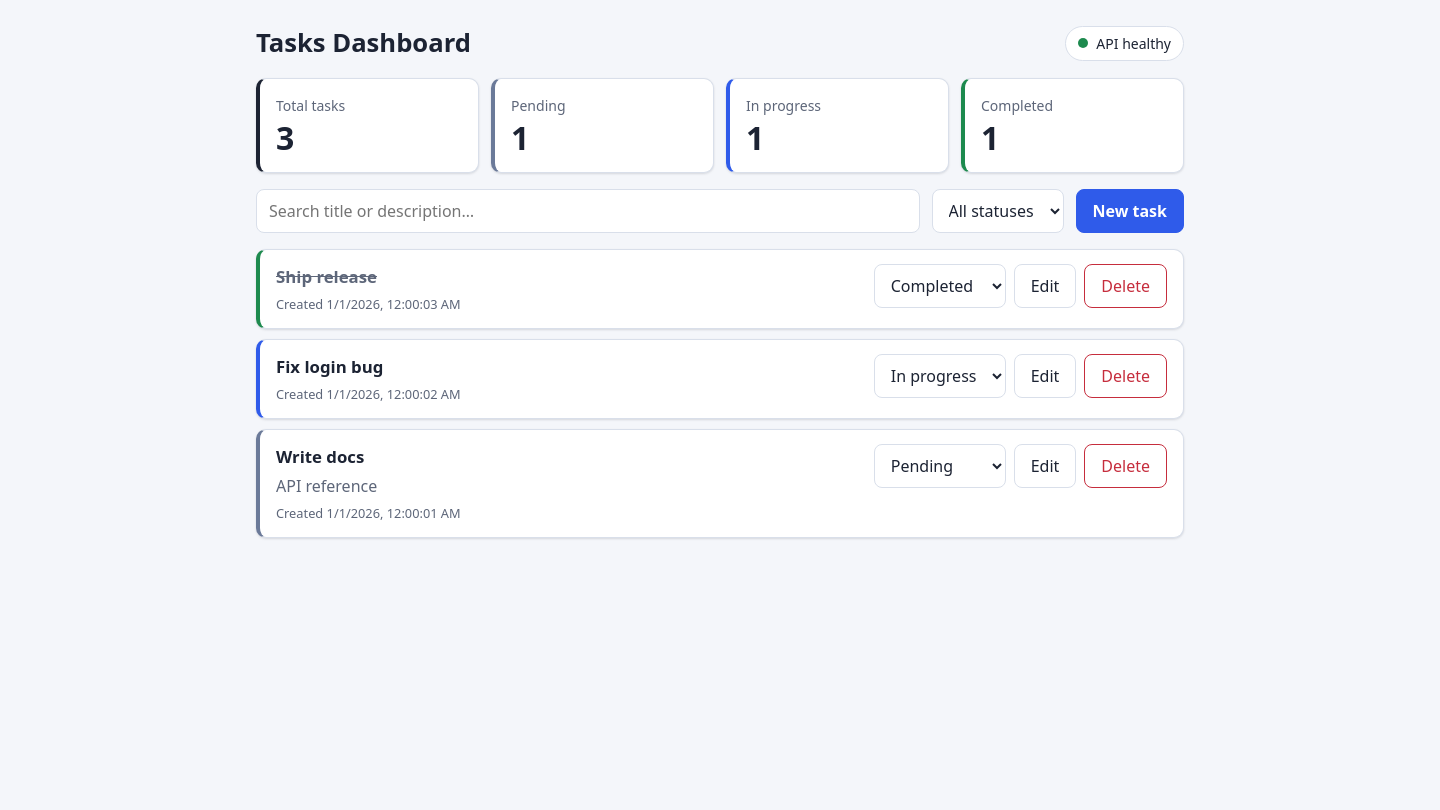
Test: create › shows a server-side validation error inside the dialog and keeps it open
The image size is (1440, 810).
Check: the heading "Write docs" is shown, box [276,445,364,468]
Click the button "New task" at {"x": 1130, "y": 211}, box [1076,189,1184,233]
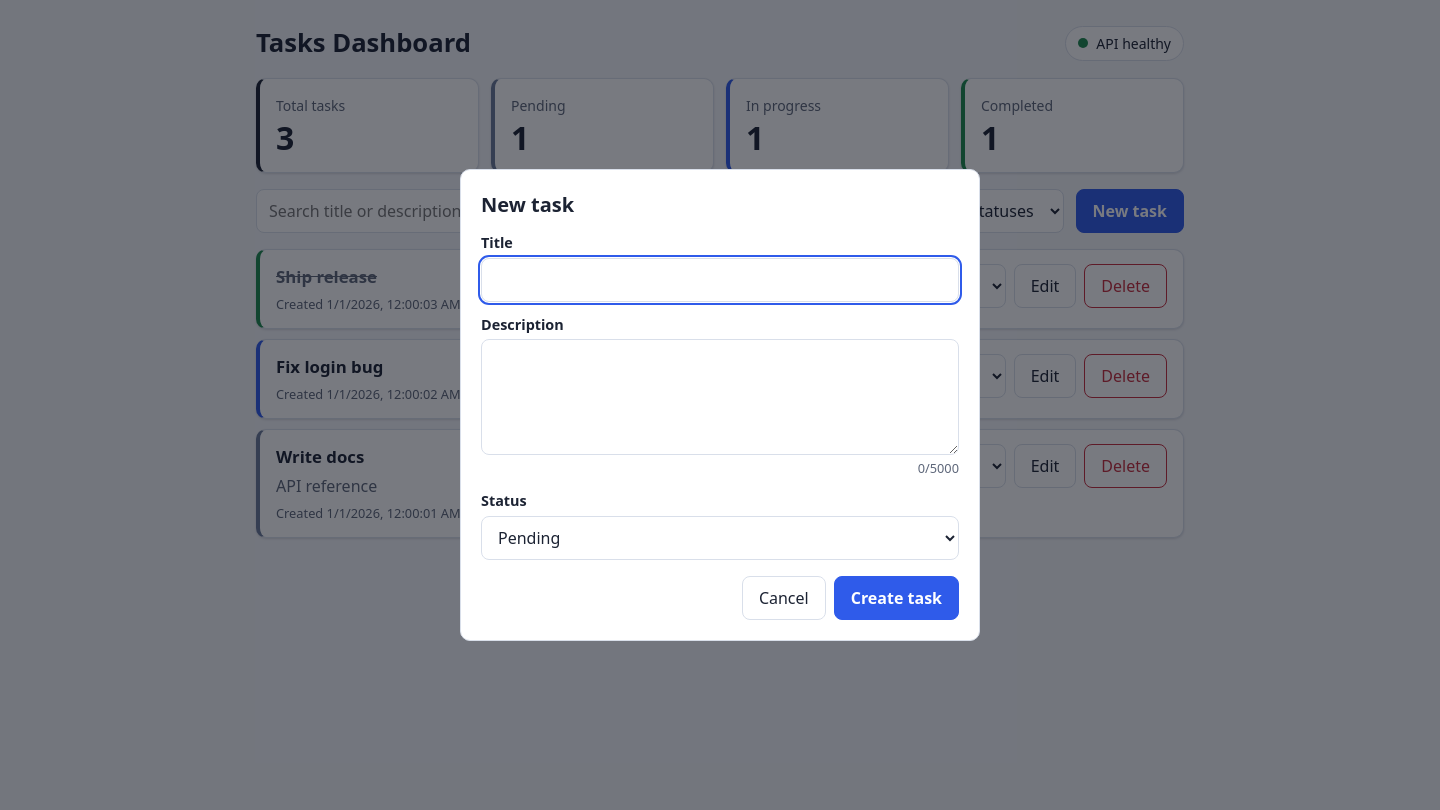
Type "Valid locally" into the field labelled "Title" at {"x": 720, "y": 280}, box [481,258,959,302]
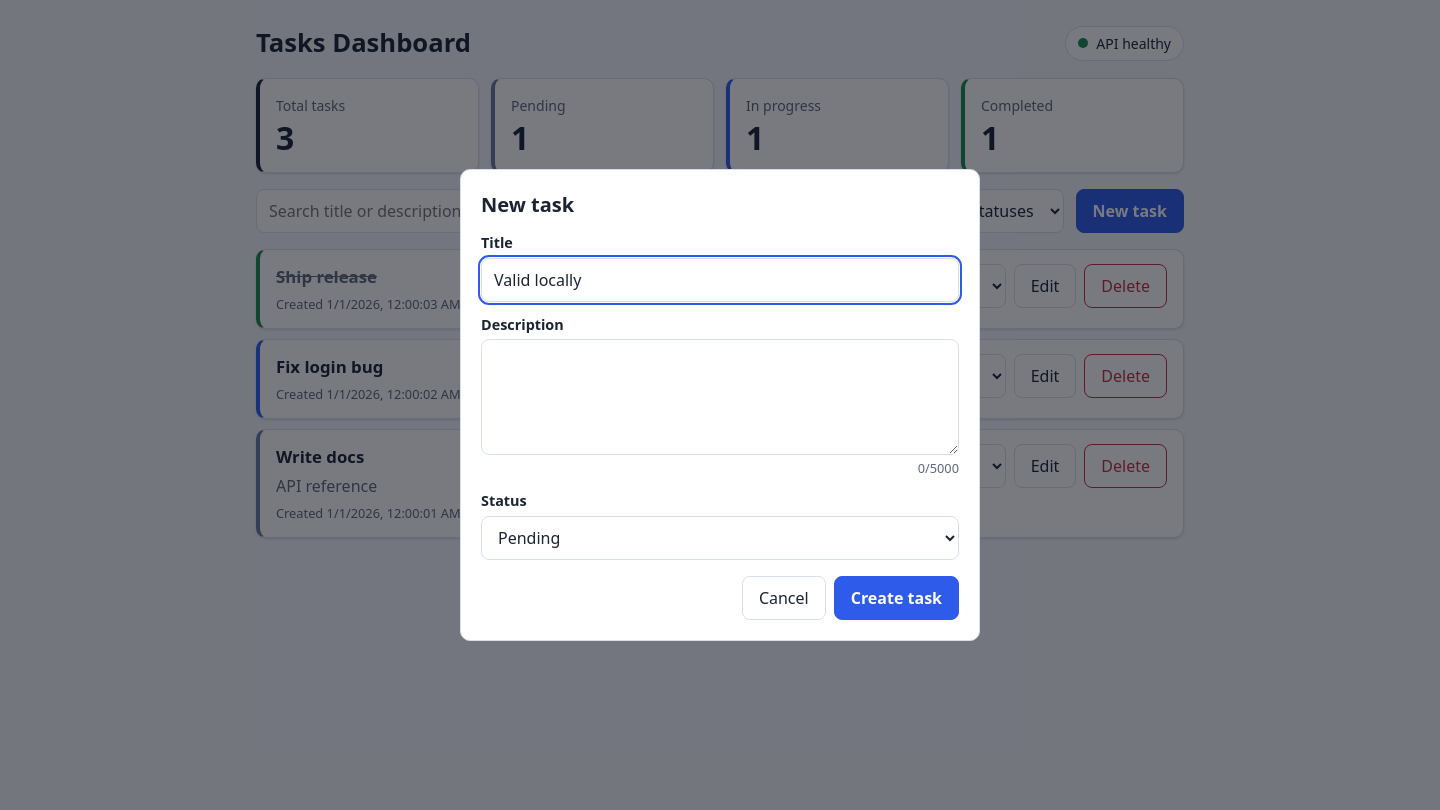
Click the button "Create task" at {"x": 896, "y": 598}, box [834,576,959,620]
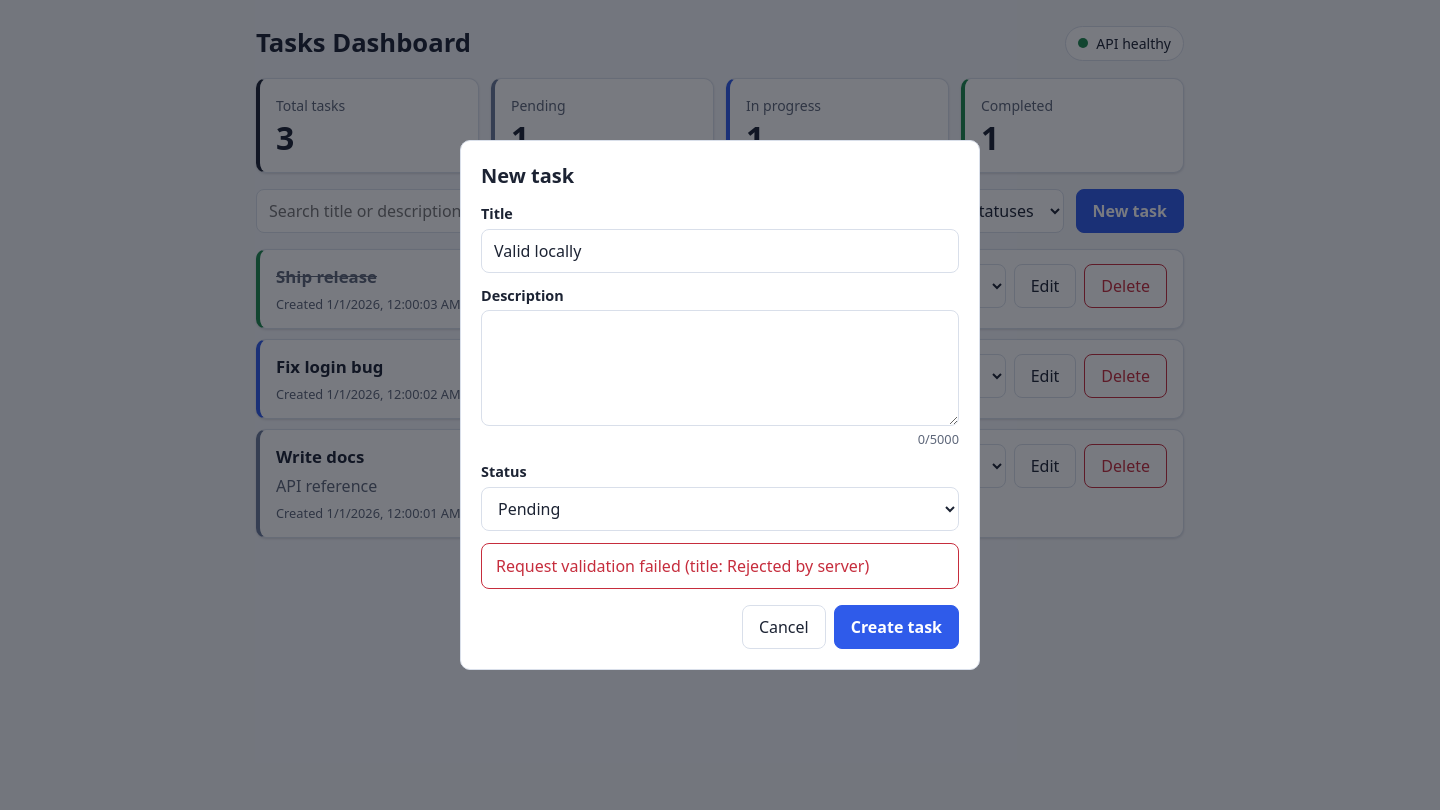
Check: the dialog is shown, box [460,140,980,670]
Check: the button "Create task" is enabled, box [834,605,959,649]
Check: the message reads "Request validation failed (title: Rejected by server)", box [496,555,869,577]
